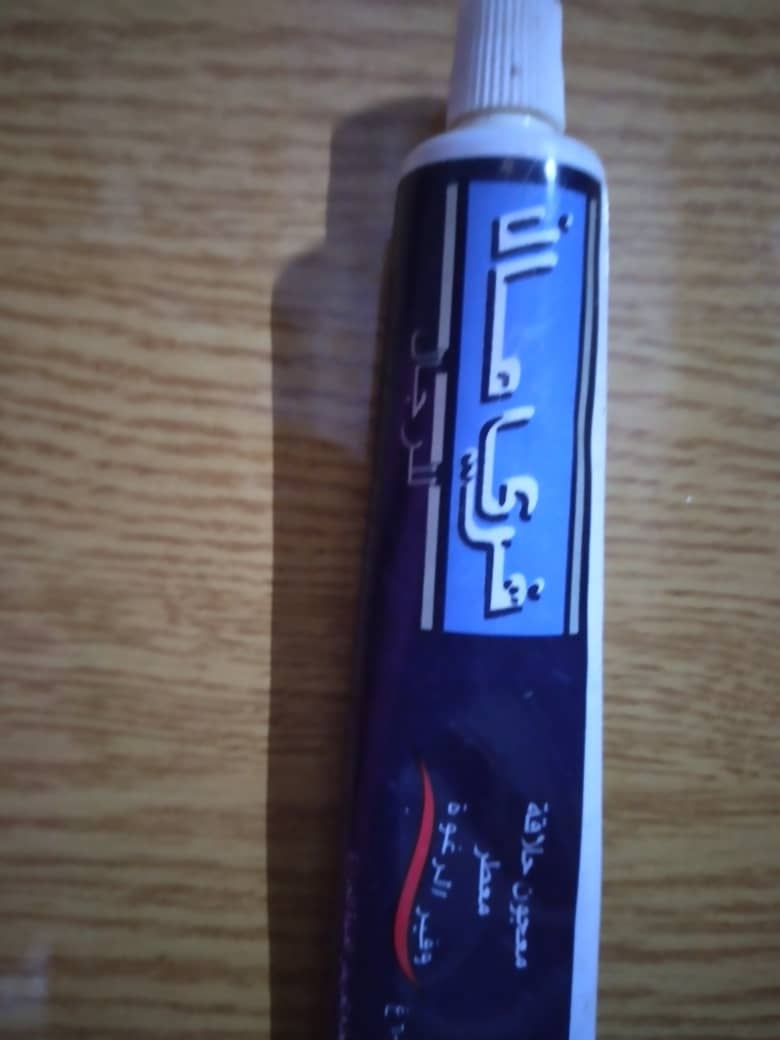Medicine: (320, 7, 630, 1040)
